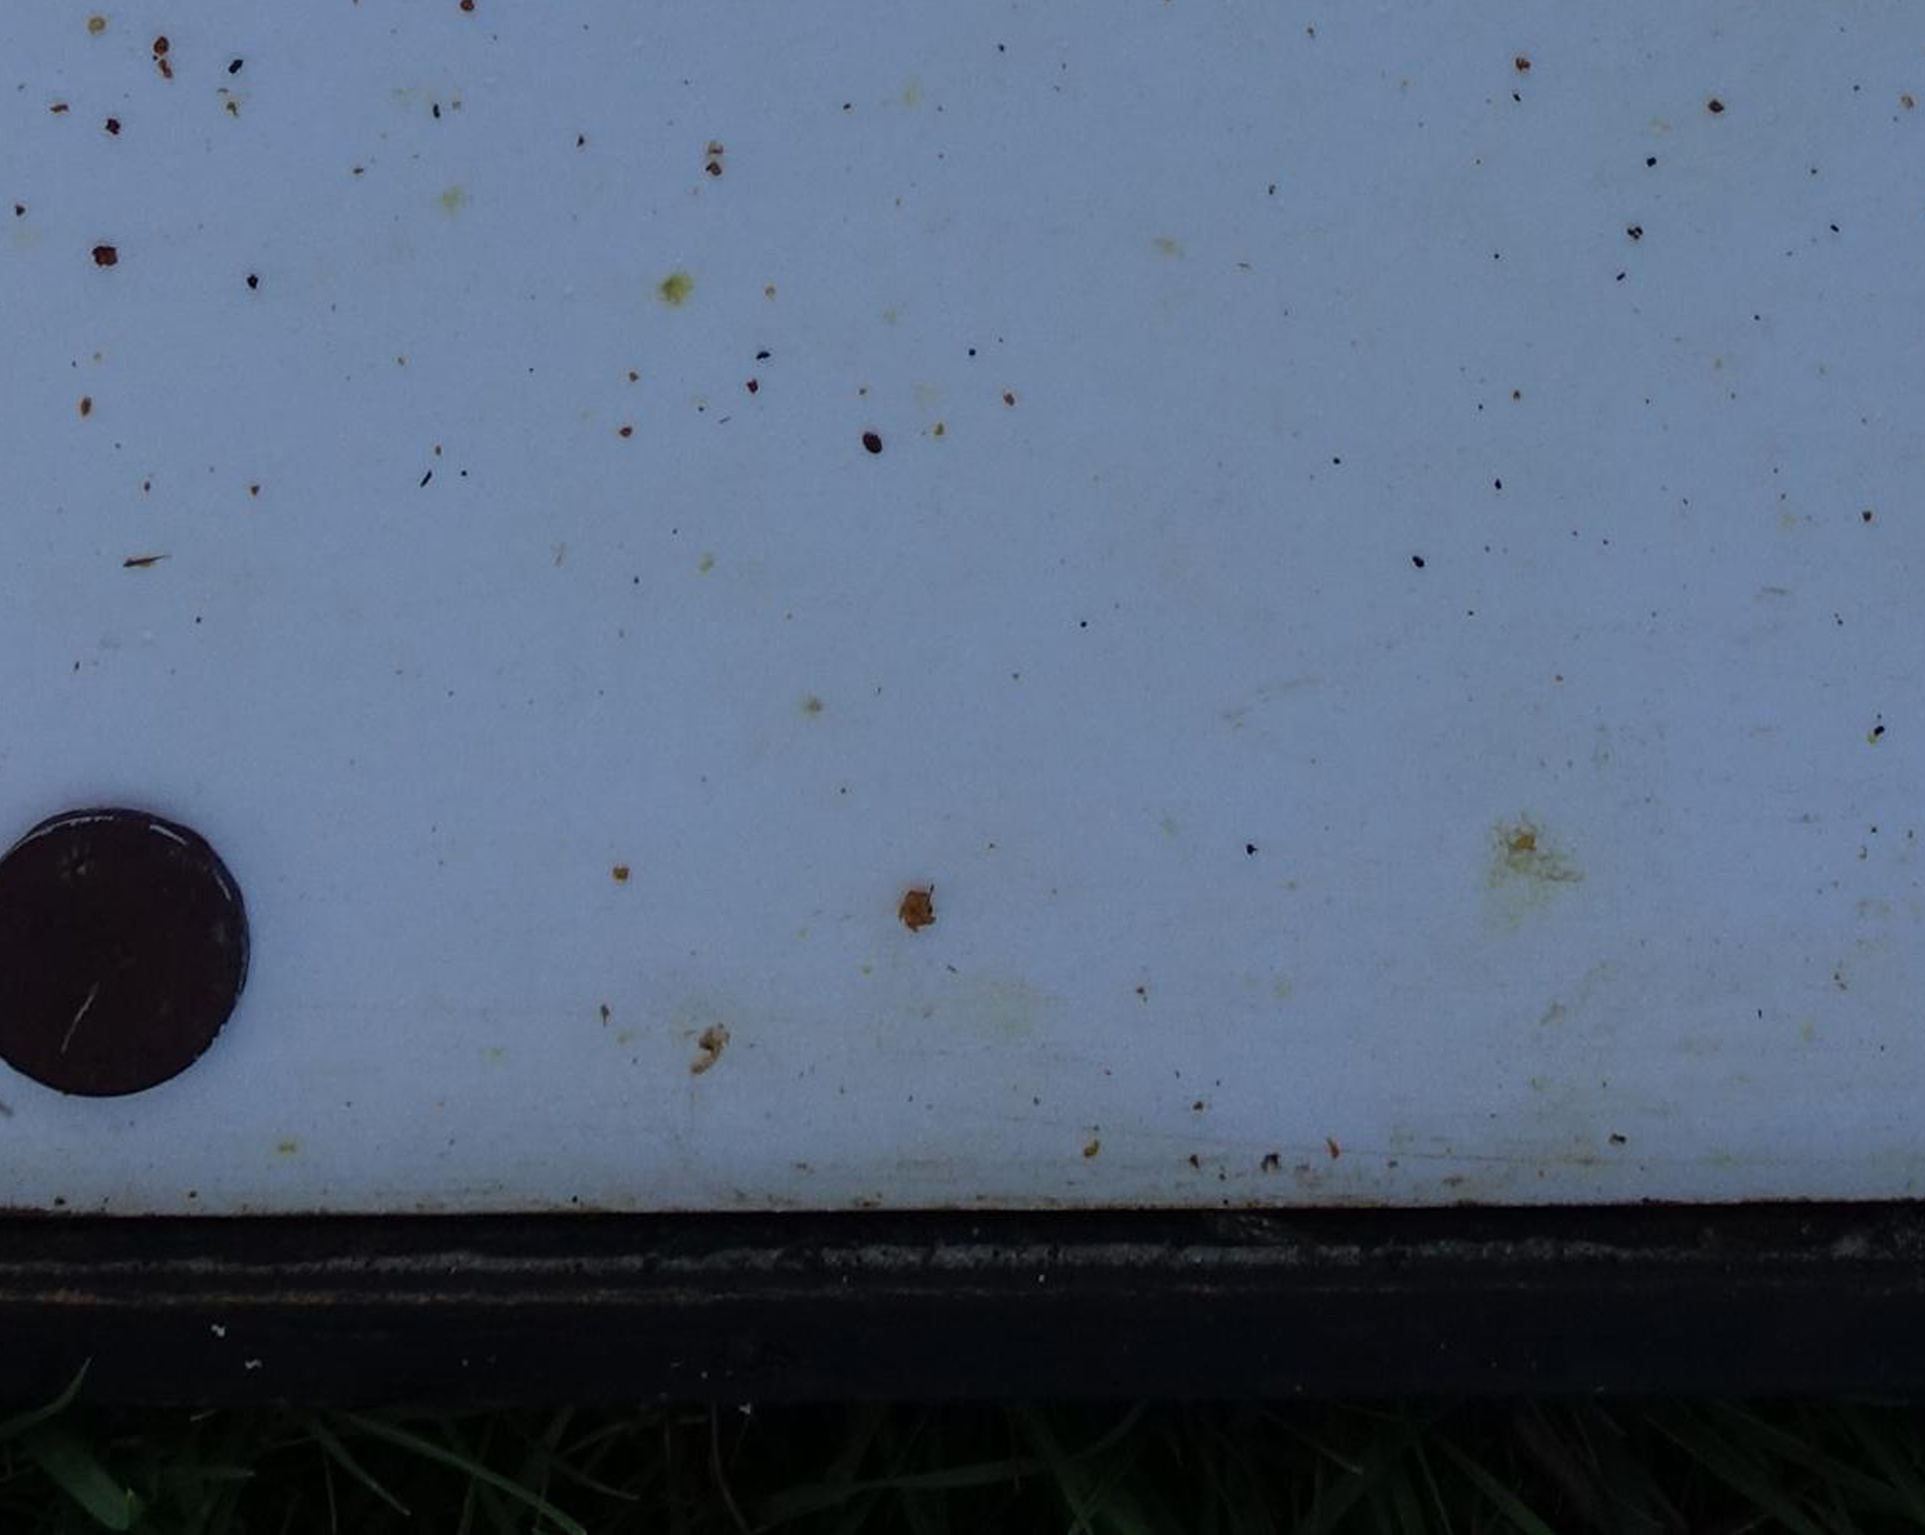Varroa: (855, 432, 882, 464)
